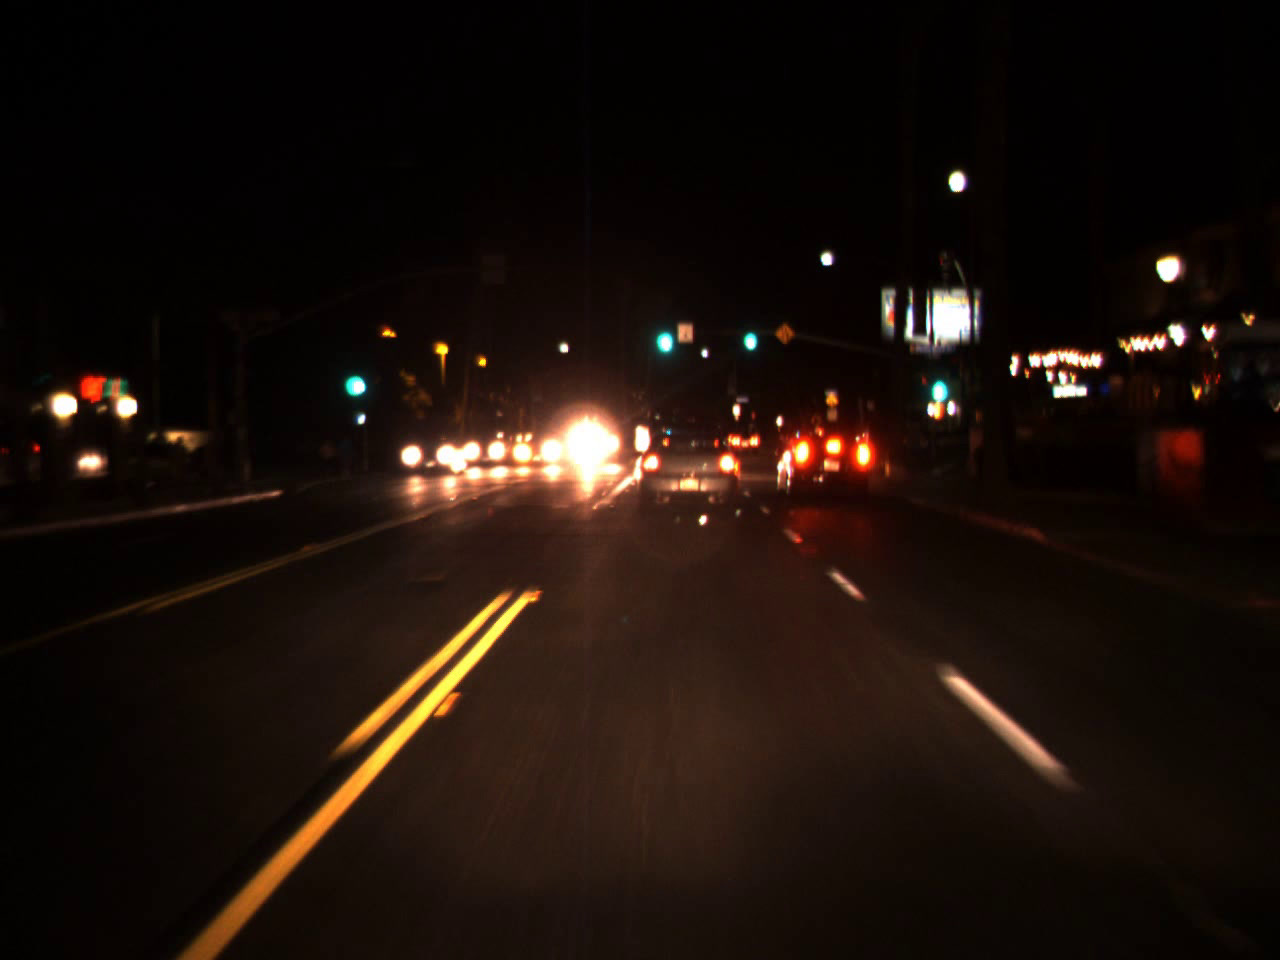go: (339, 350, 366, 404), (651, 307, 676, 361), (924, 358, 951, 406), (739, 317, 757, 350)
